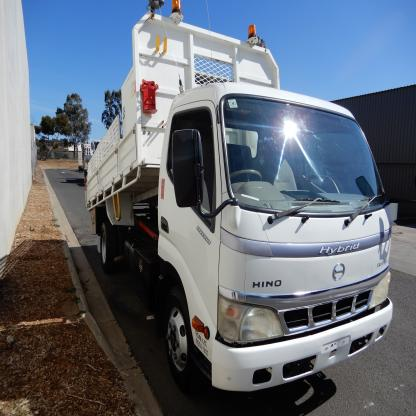dump_truck: (70, 4, 400, 401)
